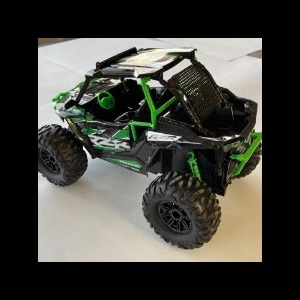polaris: (40, 48, 262, 251)
